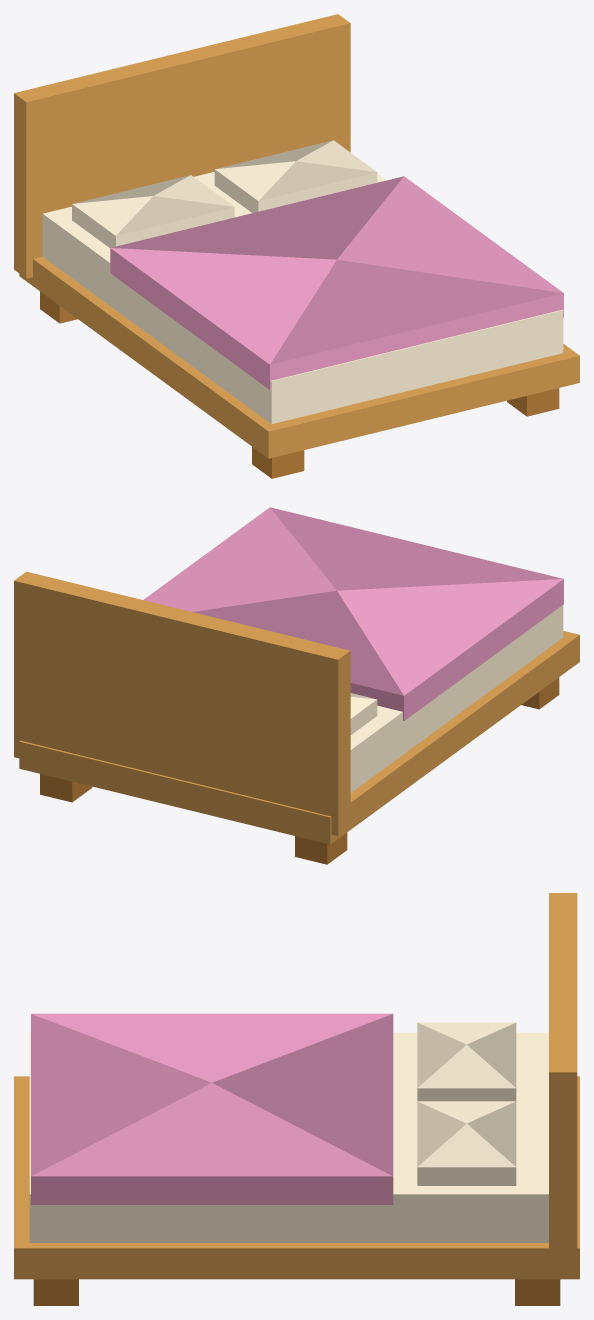
The model's file is 11-bed.glb.
3 views of the same model, one above another, from view 1: azimuth 30°, elevation 25°; view 2: azimuth 150°, elevation 25°; view 3: azimuth 270°, elevation 25° (orthographic). The views are drawn at different scales.
Parts seen in each view (by area): view 1: 11-bed__PinkBlanket, 11-bed__Headboard, 11-bed__Mattress, 11-bed__Frame, 11-bed__Pillow_1, 11-bed__Pillow_0, 11-bed__Leg_-0.6_-0.8, 11-bed__Leg_0.6_-0.8; view 2: 11-bed__Headboard, 11-bed__PinkBlanket, 11-bed__Frame, 11-bed__Mattress, 11-bed__Leg_-0.6_0.8, 11-bed__Leg_0.6_0.8, 11-bed__Pillow_0, 11-bed__Leg_-0.6_-0.8; view 3: 11-bed__PinkBlanket, 11-bed__Mattress, 11-bed__Frame, 11-bed__Headboard, 11-bed__Pillow_1, 11-bed__Pillow_0, 11-bed__Leg_0.6_0.8, 11-bed__Leg_0.6_-0.8.
Boxes of the visible parts, x1,y1,x2,y2 form: 11-bed__PinkBlanket: (110, 176, 563, 389); 11-bed__Headboard: (14, 14, 350, 278); 11-bed__Mattress: (42, 172, 563, 423); 11-bed__Frame: (19, 256, 579, 458); 11-bed__Pillow_1: (214, 140, 377, 212); 11-bed__Pillow_0: (72, 175, 234, 247); 11-bed__Leg_-0.6_-0.8: (252, 447, 304, 478); 11-bed__Leg_0.6_-0.8: (507, 388, 559, 416); 11-bed__Headboard: (14, 571, 350, 835); 11-bed__PinkBlanket: (143, 507, 563, 720); 11-bed__Frame: (19, 631, 579, 844); 11-bed__Mattress: (350, 605, 563, 792); 11-bed__Leg_-0.6_0.8: (295, 832, 347, 864); 11-bed__Leg_0.6_0.8: (40, 774, 92, 802); 11-bed__Pillow_0: (350, 693, 377, 734); 11-bed__Leg_-0.6_-0.8: (521, 677, 559, 709); 11-bed__PinkBlanket: (31, 1013, 393, 1204); 11-bed__Mattress: (29, 1032, 548, 1242); 11-bed__Frame: (14, 1076, 579, 1279); 11-bed__Headboard: (549, 893, 577, 1272); 11-bed__Pillow_1: (417, 1101, 516, 1185); 11-bed__Pillow_0: (417, 1022, 516, 1101); 11-bed__Leg_0.6_0.8: (515, 1279, 560, 1305); 11-bed__Leg_0.6_-0.8: (33, 1279, 78, 1305).
Bounding box in the file's own units: 1.5 × 0.95 × 2.
